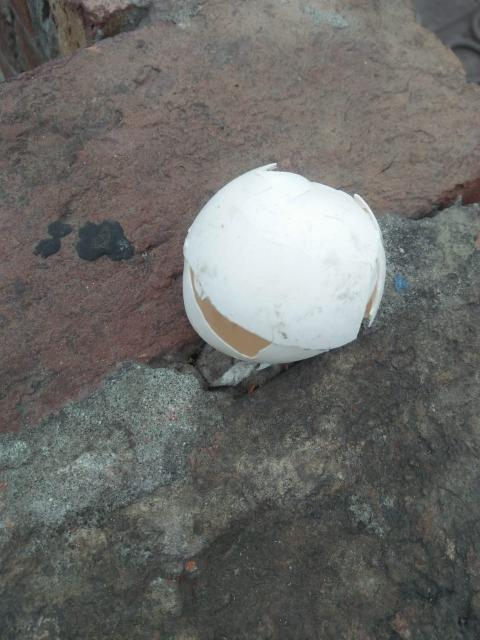Roto: (181, 162, 387, 366)
